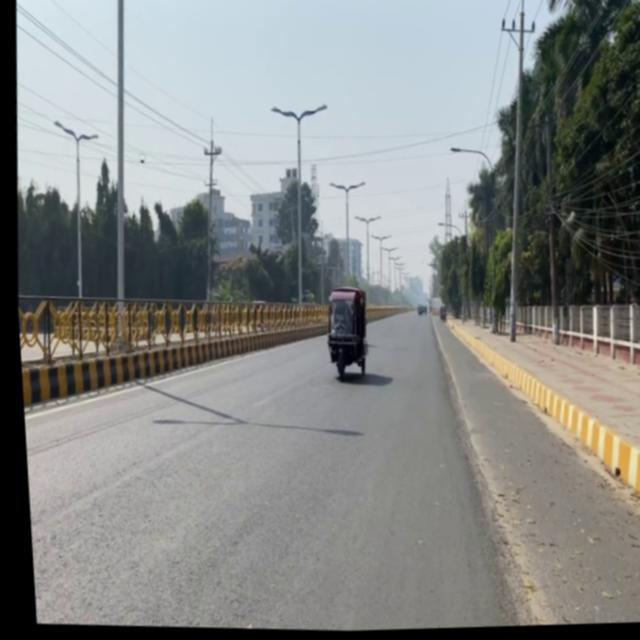Construction-barrier: (408, 311, 551, 631)
Fallen-tree: (434, 308, 443, 325)
Light-pole: (97, 0, 139, 305)
Pole: (13, 273, 271, 422)
Pothole: (436, 313, 640, 470)
Traffic-cone: (316, 286, 369, 382)
